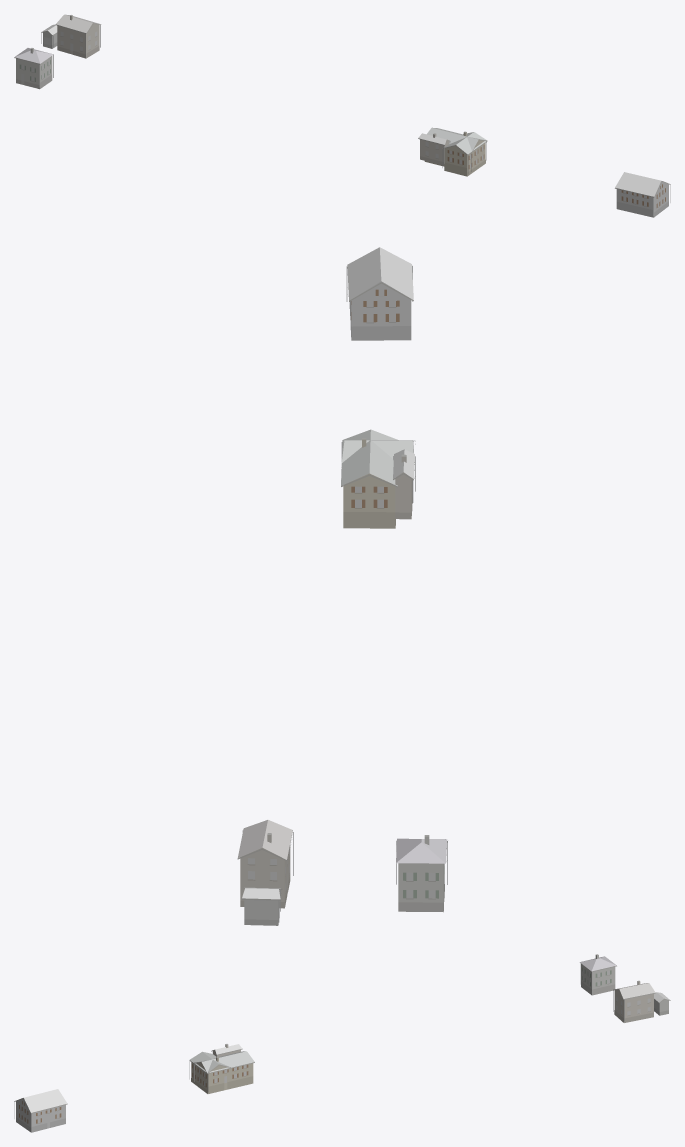
The picture shows the model from 3 angles, top to bottom: view 1: azimuth 30°, elevation 25°; view 2: azimuth 150°, elevation 25°; view 3: azimuth 270°, elevation 25°; orthographic projection. The views are drawn at different scales.
Parts seen in each view (by area): view 1: bld; view 2: bld; view 3: bld.
Boxes of the visible parts, box(x1,y1,x2,y2) form: bld: box(14, 14, 670, 217); bld: box(237, 247, 447, 925); bld: box(14, 954, 670, 1132).
Size of the model in its own units: 112 by 13.08 by 189.
